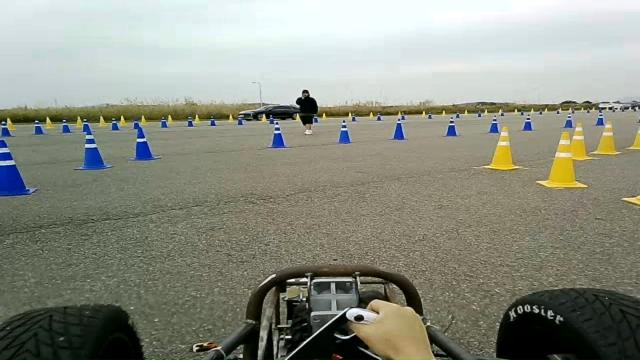blue cone: (0, 139, 37, 195), (73, 133, 114, 170), (127, 126, 161, 160), (266, 123, 290, 148), (333, 119, 355, 144), (388, 121, 410, 140), (443, 117, 459, 137), (486, 114, 500, 134), (520, 114, 534, 131), (593, 108, 605, 126), (560, 113, 574, 128)
yellow cone: (536, 131, 588, 188), (481, 126, 523, 170), (588, 119, 621, 155), (570, 122, 594, 160), (624, 129, 640, 150)
